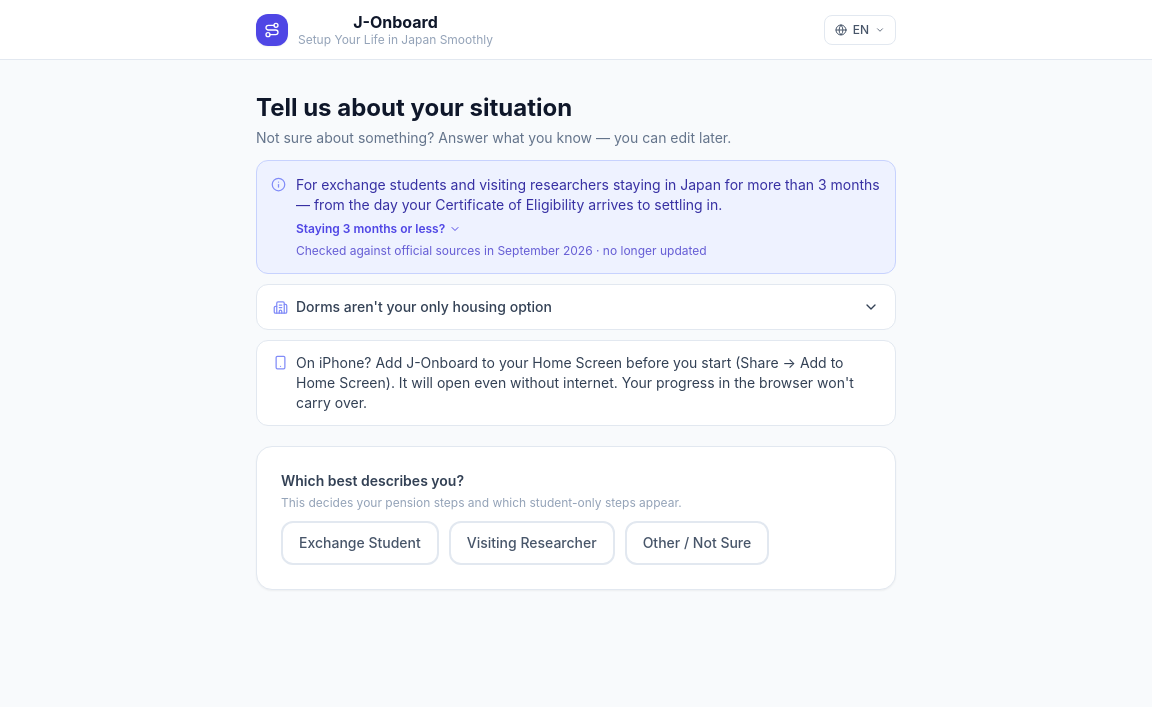
Test: app › keeps the key point and the source on the card itself
The image size is (1152, 707).
Click the button "Exchange Student" at (360, 543), box [281,521,439,565]
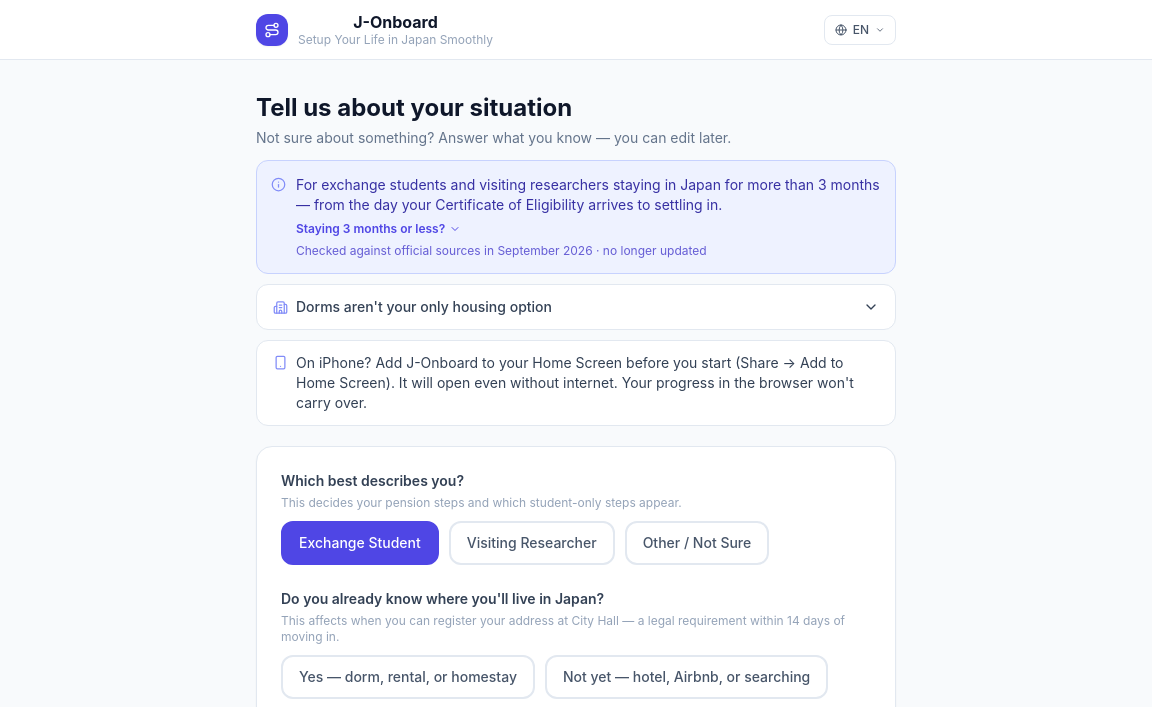
Click the button "Yes — dorm, rental, or homestay" at (408, 677), box [281,655,535,699]
(page scrolled)
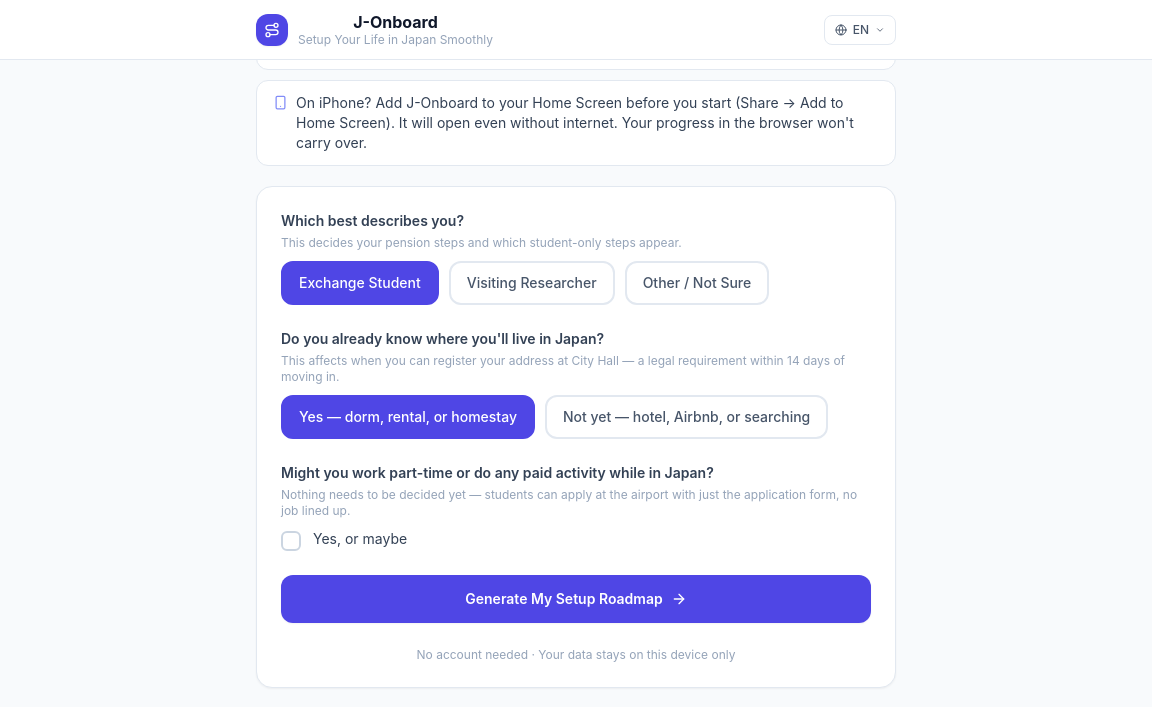
Click the button "Generate My Setup Roadmap" at (576, 599), box [281,575,871,623]
(page scrolled)
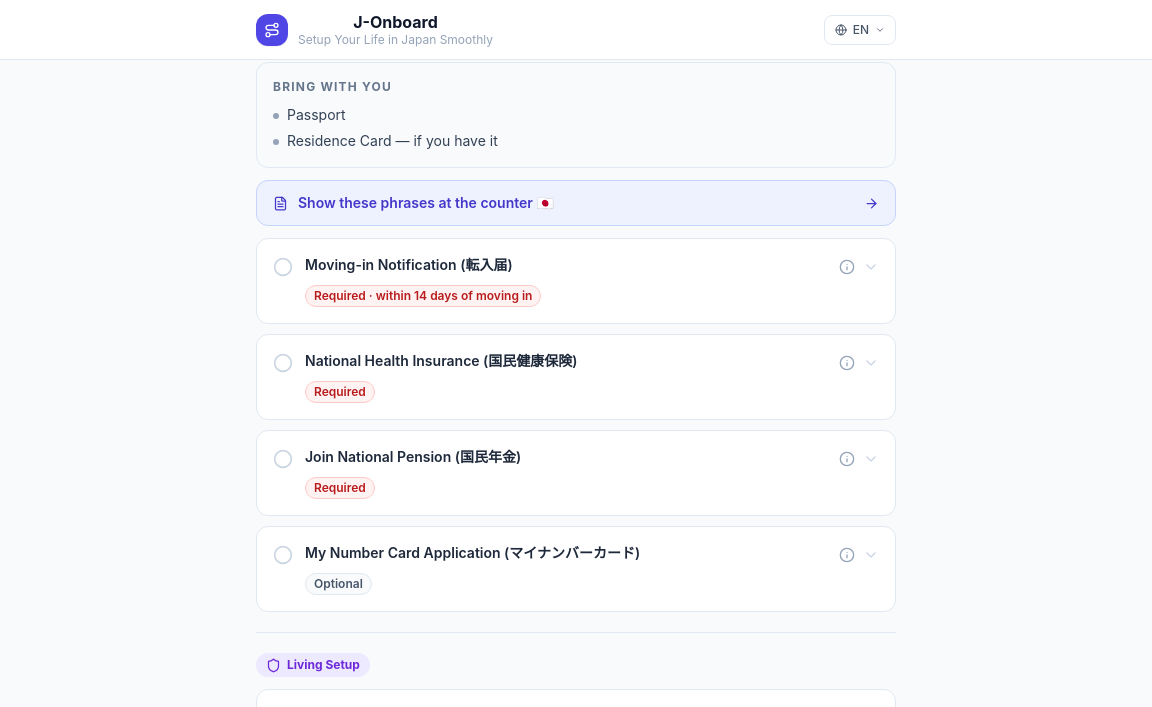
Click the text "National Health Insurance (国民健康保険)" at (441, 361), box [305,351,578,371]
(page scrolled)
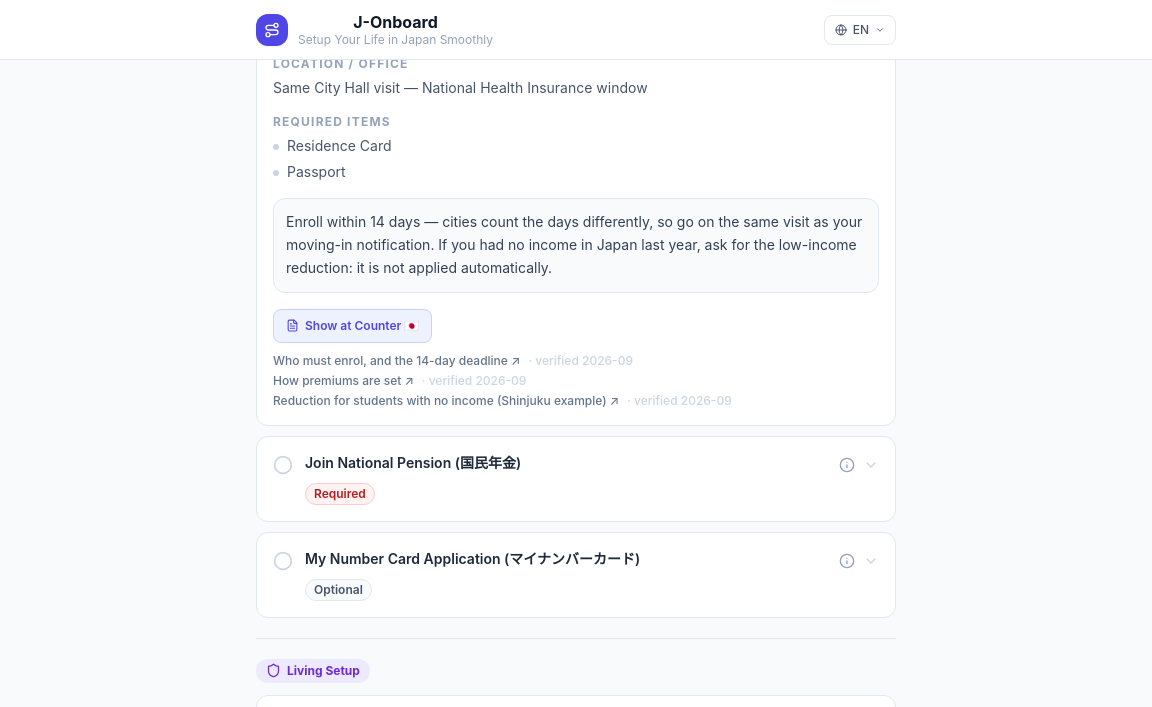
expect the text "Enroll within 14 days" is shown: met, box [286,213,862,276]
expect the link "Who must enrol, and the 14-day deadline ↗ · verified 2026-09" is shown: met, box [273,352,633,368]
